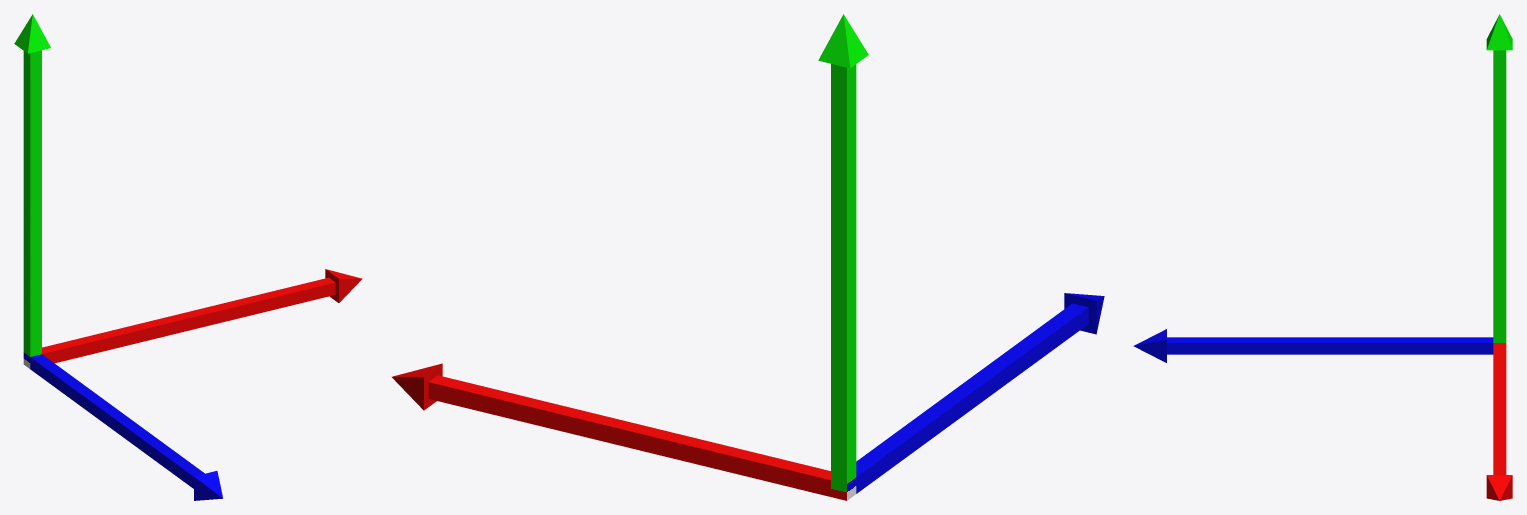
The model's file is gojxjez4vka8.glb.
3 views of the same model, side by side, from view 1: azimuth 30°, elevation 25°; view 2: azimuth 150°, elevation 25°; view 3: azimuth 270°, elevation 25° (orthographic). The views are drawn at different scales.
Visible parts, largest first — view 1: Cube; view 2: Cube; view 3: Cube.
Boxes of the visible parts, x1=… form: Cube: x1=14, y1=14, x2=362, y2=500; Cube: x1=392, y1=14, x2=1104, y2=500; Cube: x1=1133, y1=14, x2=1512, y2=500.
Size of the model in its own units: 0.2798 by 0.2798 by 0.2798.
1 material, 1 textured.
